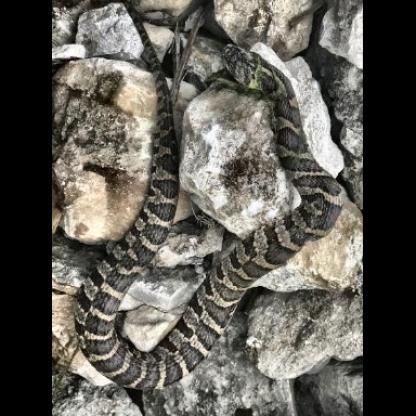Snake: (54, 10, 355, 413)
